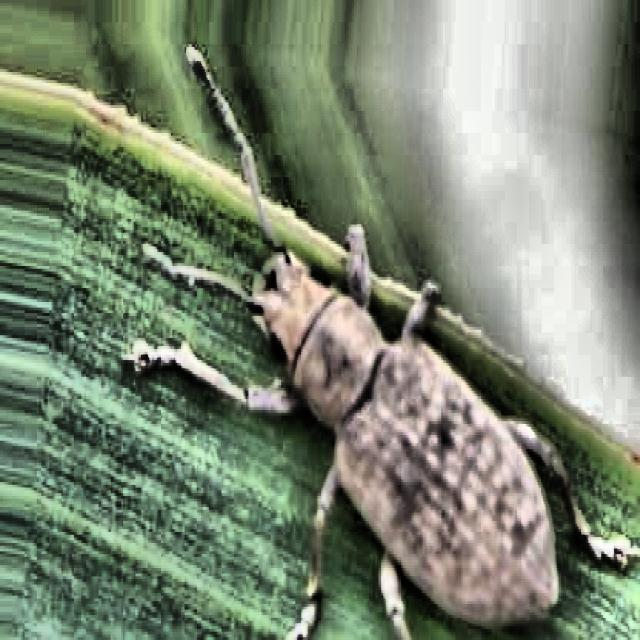Stink bug: (147, 99, 592, 640)
